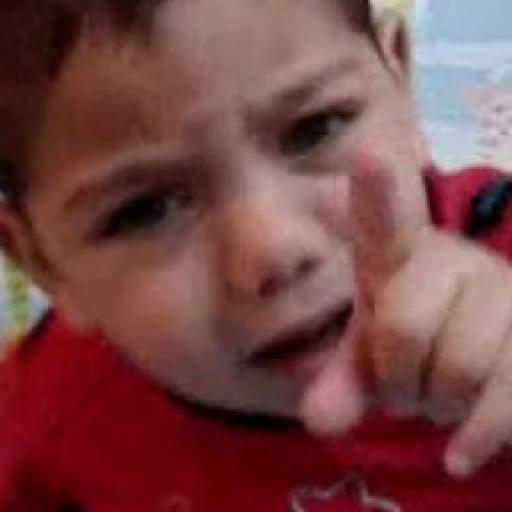Autism: (12, 4, 482, 457)
